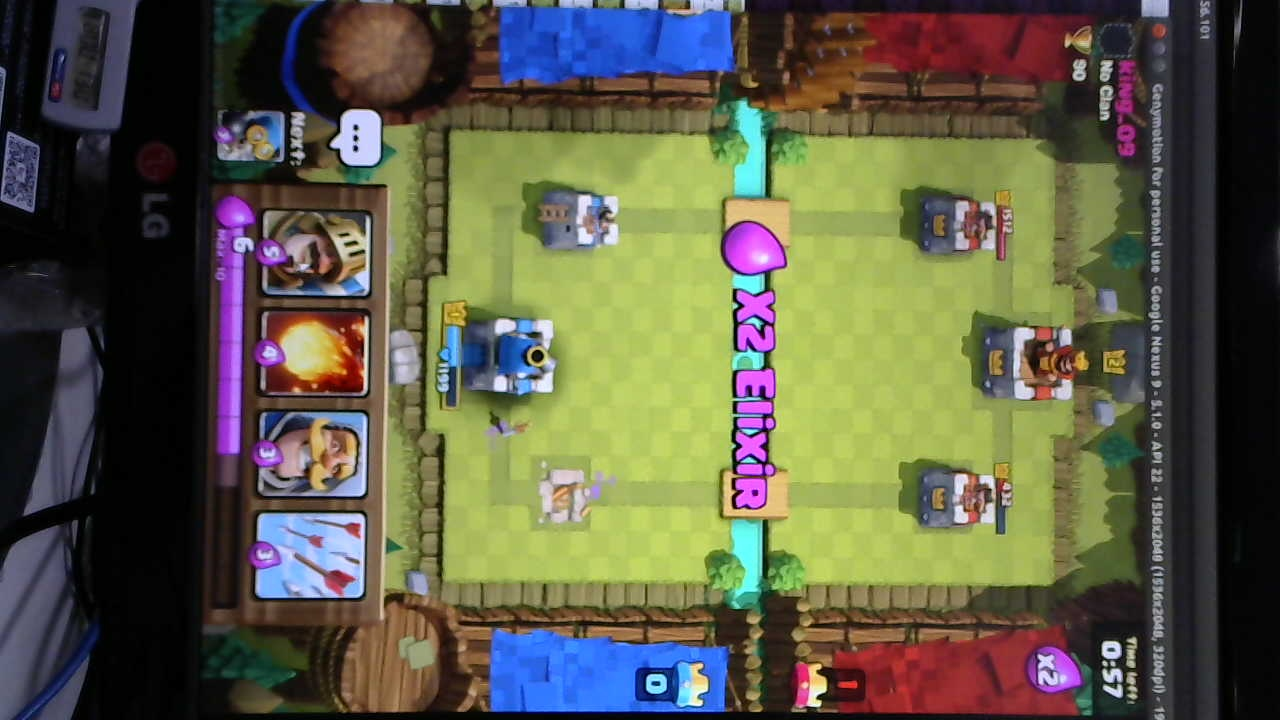arena: (541, 187, 623, 252)
darena: (538, 465, 591, 531)
earena: (920, 468, 998, 530), (916, 201, 1003, 255)
eking: (980, 321, 1091, 403)
king: (470, 316, 559, 397)
